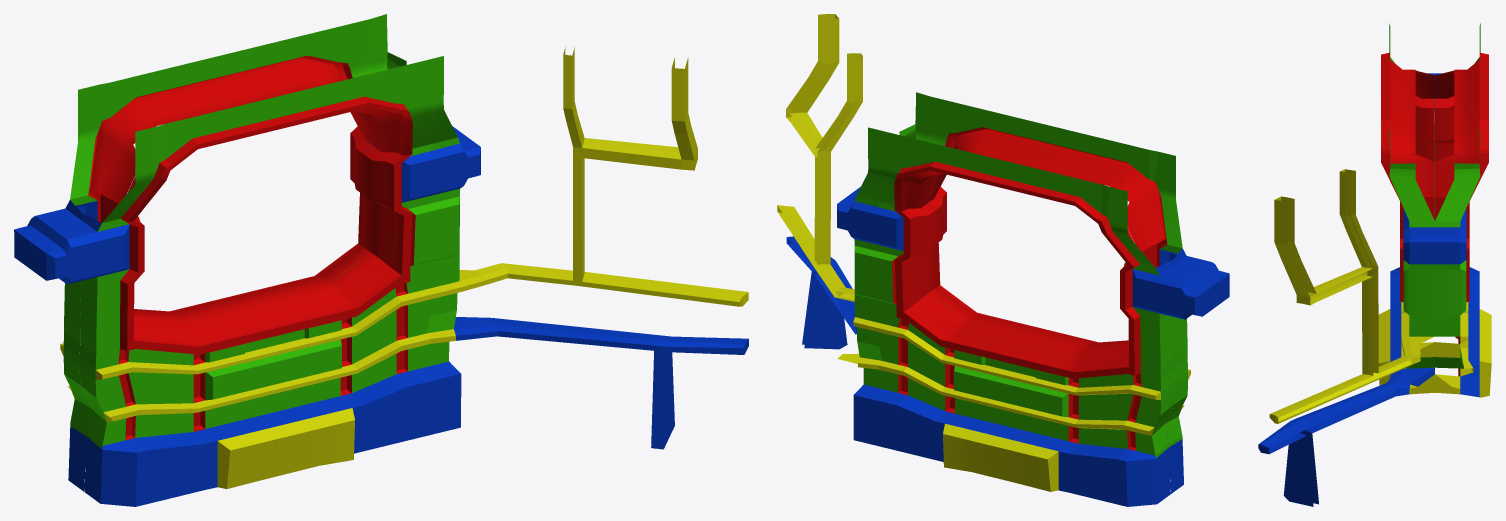
File: Window.fbx
3 views of the same model, side by side, from view 1: azimuth 30°, elevation 25°; view 2: azimuth 150°, elevation 25°; view 3: azimuth 270°, elevation 25° (orthographic). The views are drawn at different scales.
Visible parts, largest first — view 1: polySurface53; view 2: polySurface53; view 3: polySurface53.
Boxes of the visible parts, x1=… form: polySurface53: x1=14, y1=14, x2=748, y2=506; polySurface53: x1=777, y1=14, x2=1229, y2=506; polySurface53: x1=1258, y1=23, x2=1491, y2=506.
Bounding box in the file's own units: 603 × 361 × 247.
